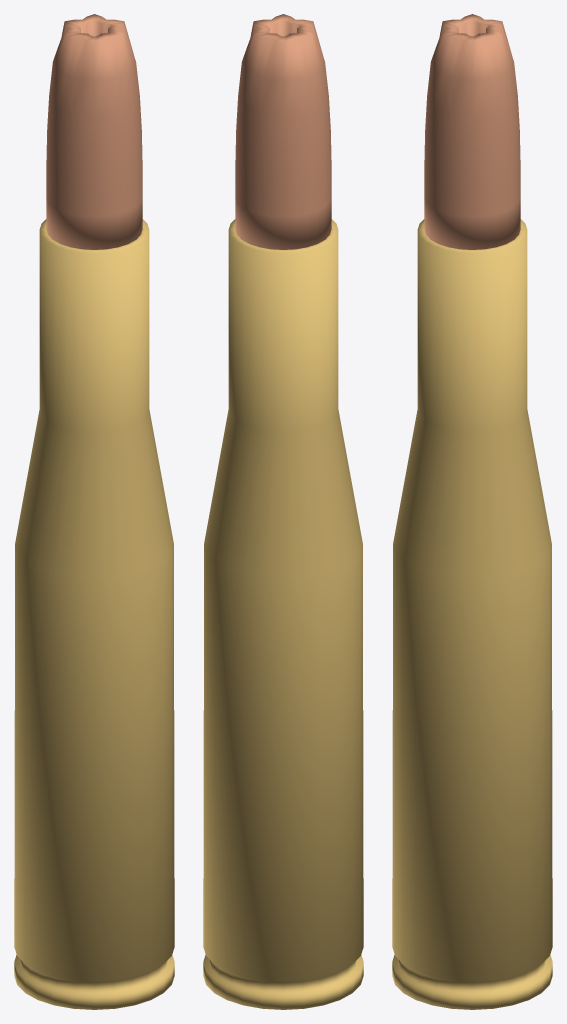
The picture shows the model from 3 angles, left to right: view 1: azimuth 30°, elevation 25°; view 2: azimuth 150°, elevation 25°; view 3: azimuth 270°, elevation 25°; orthographic projection.
Parts seen in each view (by area): view 1: vaina, bala_hueca; view 2: vaina, bala_hueca; view 3: vaina, bala_hueca.
Boxes of the visible parts, <box> form: vaina: <box>14,219,174,1009</box>; bala_hueca: <box>46,14,142,249</box>; vaina: <box>203,219,363,1009</box>; bala_hueca: <box>235,14,331,249</box>; vaina: <box>392,219,552,1009</box>; bala_hueca: <box>424,14,520,249</box>.
Bounding box in the file's own units: 0.013 × 0.0848 × 0.013.
